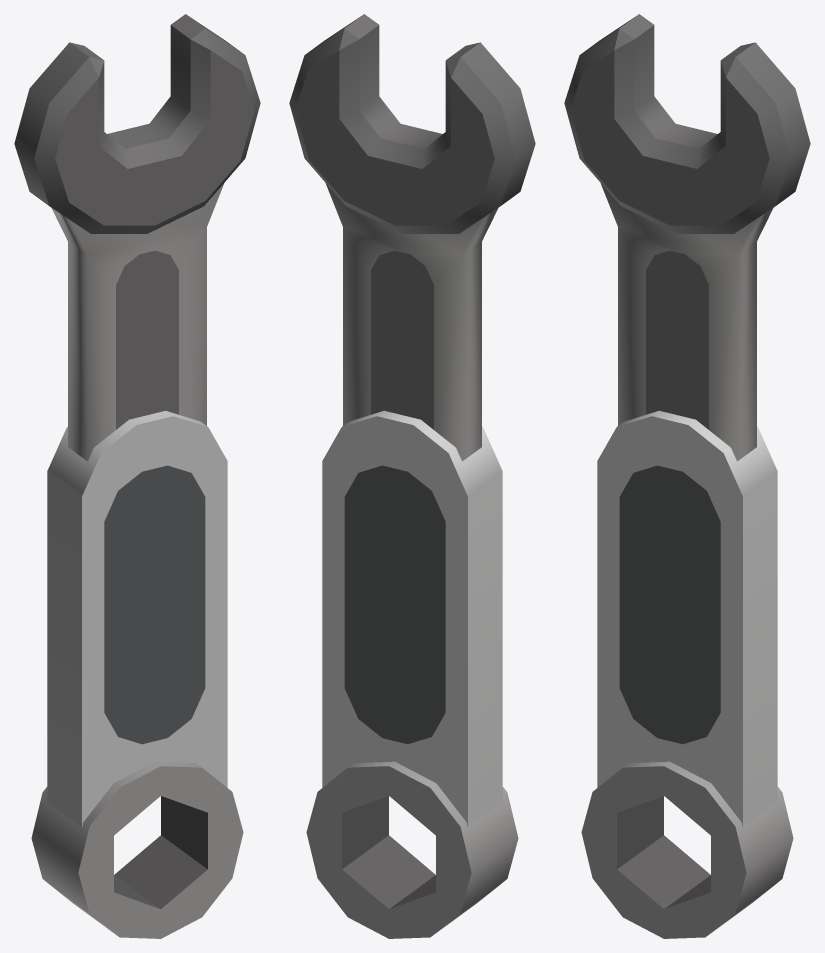
The model's file is Wrench_003.fbx.
3 renders of one model, left to right at view 1: azimuth 30°, elevation 25°; view 2: azimuth 150°, elevation 25°; view 3: azimuth 330°, elevation 25°, orthographic.
Parts seen in each view (by area): view 1: Wrench_003; view 2: Wrench_003; view 3: Wrench_003.
Part boxes in pixels (left/top/right/bottom): Wrench_003: left=14, top=14, right=260, bottom=938; Wrench_003: left=289, top=14, right=535, bottom=938; Wrench_003: left=564, top=14, right=810, bottom=938.
Size of the model in its own units: 11.01 by 3.95 by 41.16.
